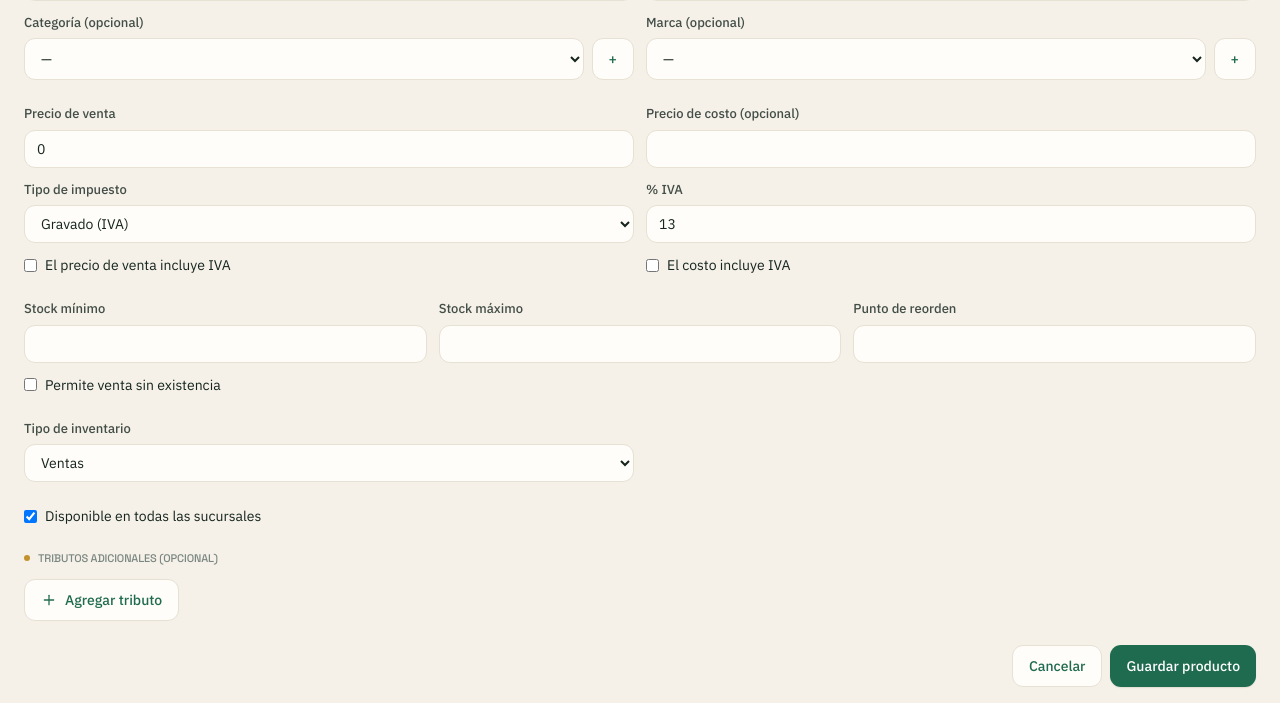
ProductoFormPage › muestra campos de activo fijo al elegir Mobiliario y Equipo
The width and height of the screenshot is (1280, 703).
(page scrolled)
Select "Mobiliario y equipo (activo fijo)" in the dropdown labelled "Tipo de inventario" at (329, 463), box x1=24 y1=444 x2=634 y2=482
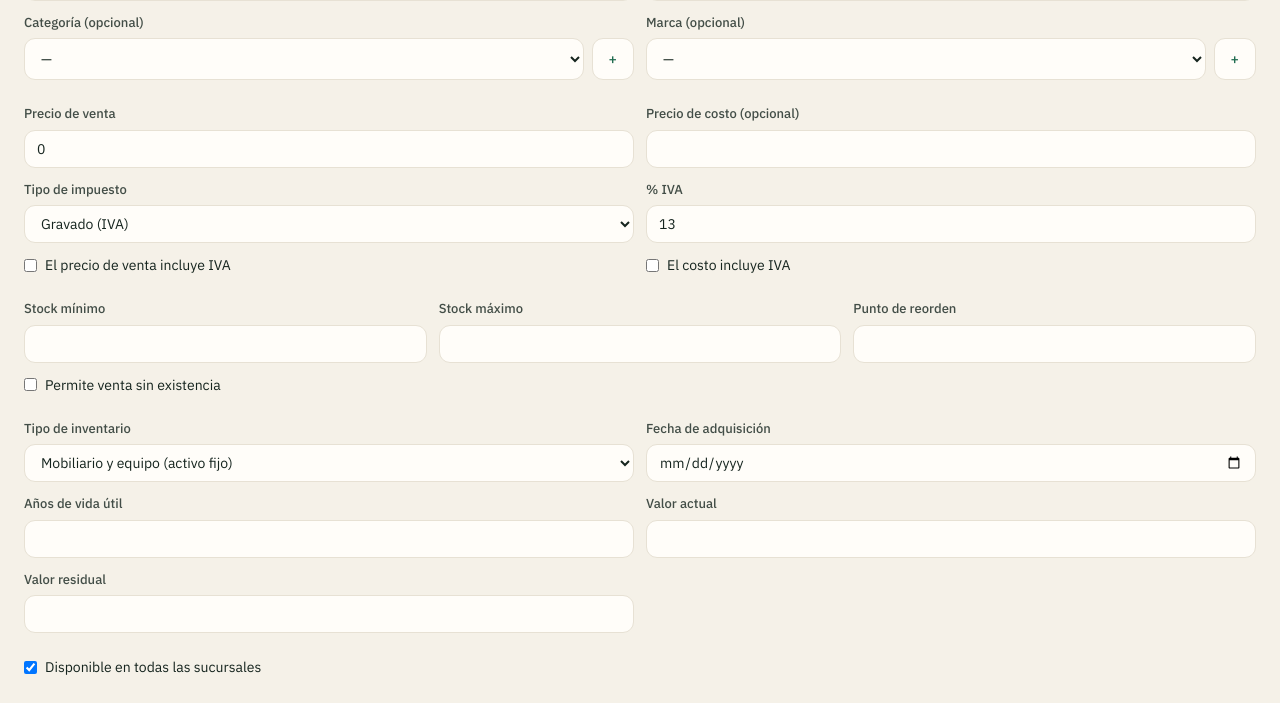
Expected: the number field labelled "Años de vida útil" is shown, x1=24 y1=520 x2=634 y2=558
